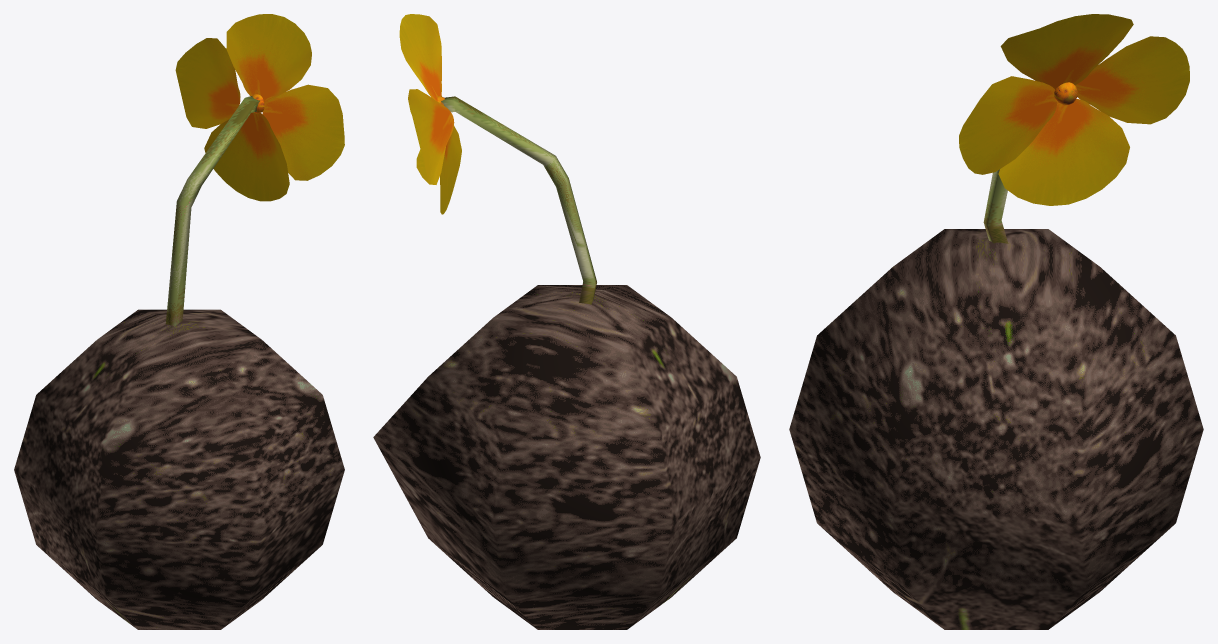
Rendered from Flower_HEad.glb.
The picture shows the model from 3 angles, left to right: view 1: azimuth 30°, elevation 25°; view 2: azimuth 150°, elevation 25°; view 3: azimuth 270°, elevation 25°; orthographic projection. The views are drawn at different scales.
Visible parts, largest first — view 1: Flower HEad; view 2: Flower HEad; view 3: Flower HEad.
Part boxes in pixels (x1,y1,x2,y2): Flower HEad: (14, 14, 344, 629); Flower HEad: (373, 14, 760, 629); Flower HEad: (789, 14, 1203, 629).
Bounding box in the file's own units: 1.37 × 2.51 × 1.38.
7 materials, 7 textured.
